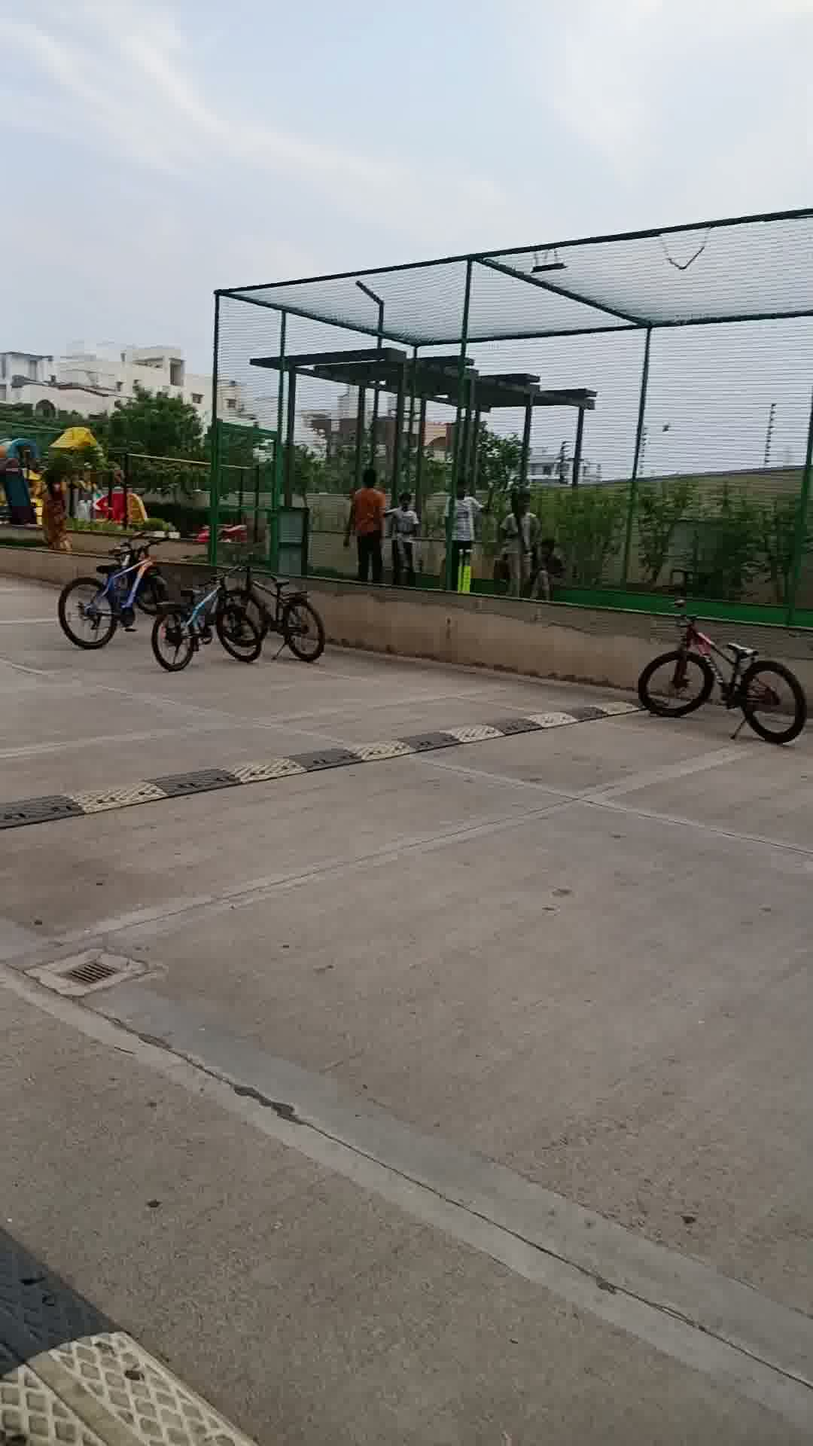bicycle: (643, 598, 813, 743), (46, 545, 188, 650), (141, 578, 267, 672), (229, 554, 331, 651)
person: (348, 454, 395, 585), (441, 461, 485, 591), (36, 457, 79, 559), (504, 474, 537, 599), (387, 483, 426, 583), (524, 529, 568, 607)
